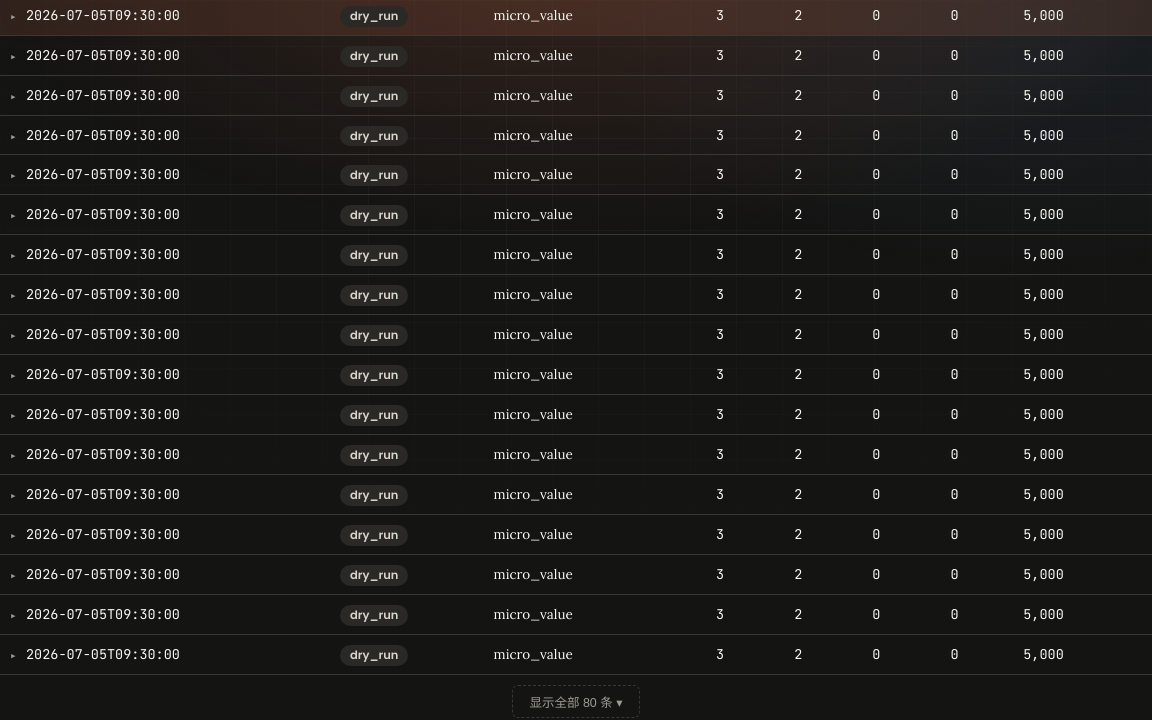
Test case: CyclesTable › 再次点击"收起"后恢复只显示前 50 行
The image size is (1152, 720).
(page scrolled)
Click the button with test id "cycles-expand" at (576, 701), box x1=512 y1=685 x2=640 y2=718
(page scrolled)
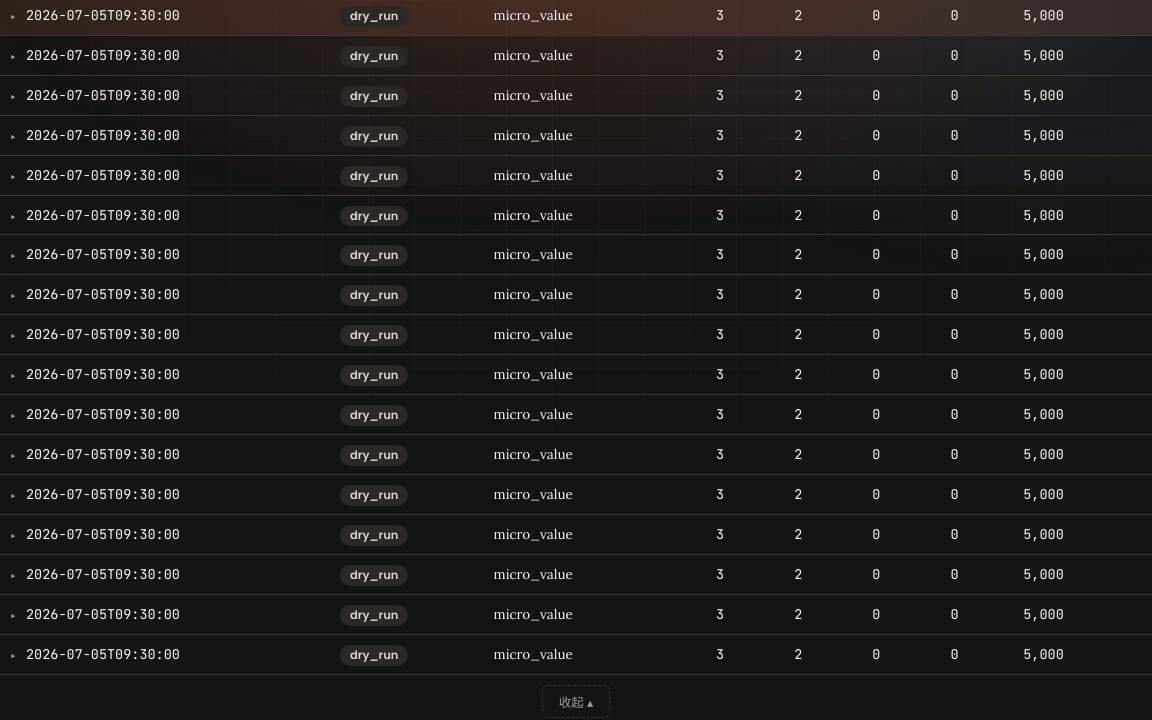
Click the button with test id "cycles-expand" at (576, 701), box x1=542 y1=685 x2=610 y2=718
(page scrolled)
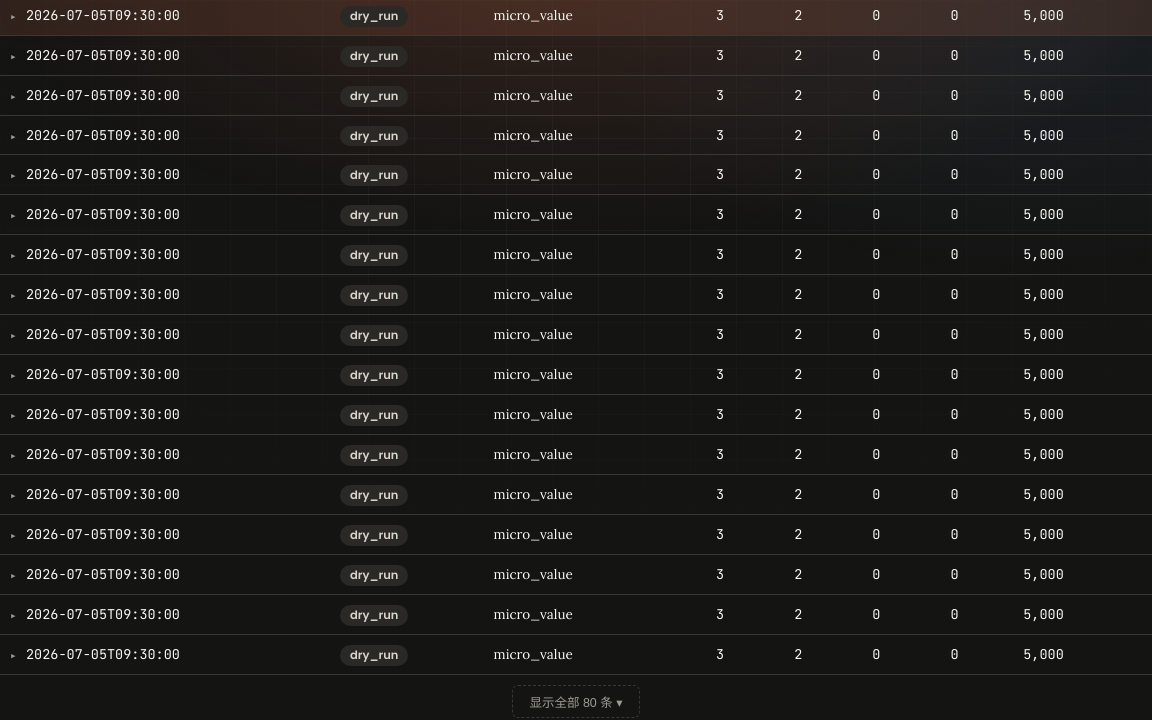
Expected: the button with test id "cycles-expand" shows "显示全部 80 条", x1=512 y1=685 x2=640 y2=718
